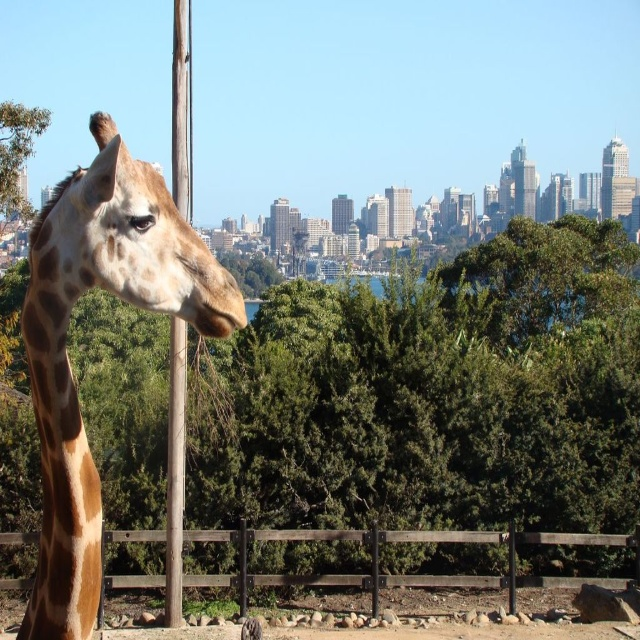Giraffe: (12, 109, 248, 639)
